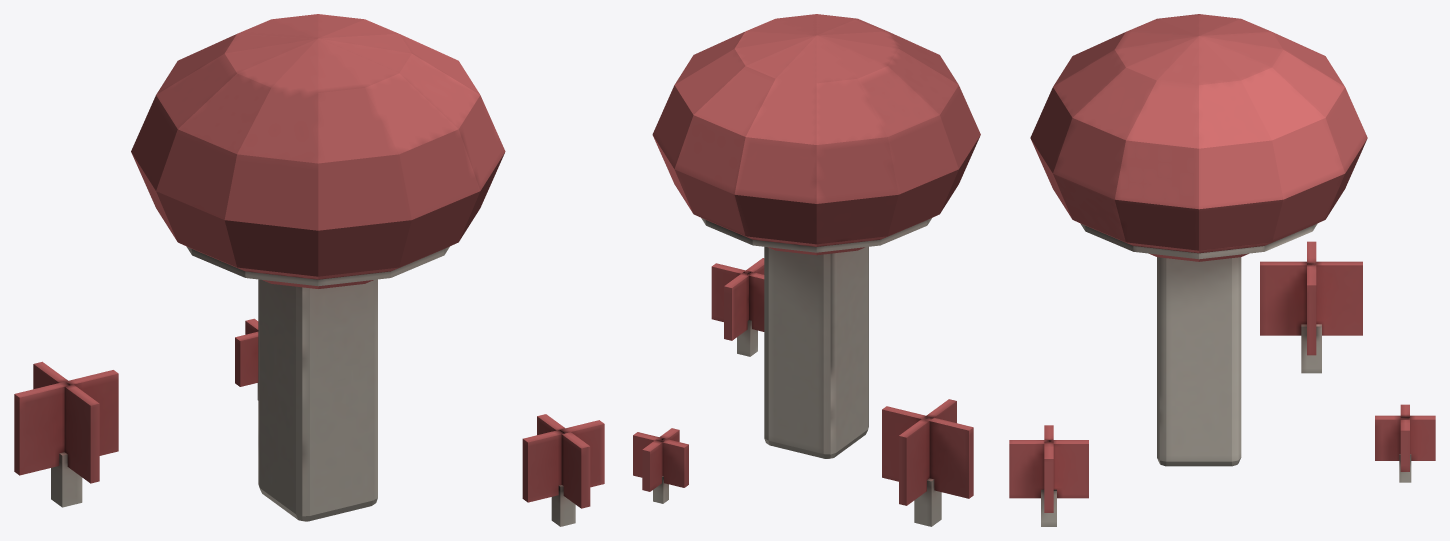
The model's file is netherfungus.glb.
3 renders of one model, left to right at view 1: azimuth 30°, elevation 25°; view 2: azimuth 150°, elevation 25°; view 3: azimuth 270°, elevation 25°, orthographic. The views are drawn at different scales.
Visible parts, largest first — view 1: netherfungus; view 2: netherfungus; view 3: netherfungus.
Boxes of the visible parts, bbox=[...] form: netherfungus: bbox=[14, 14, 604, 526]; netherfungus: bbox=[633, 14, 980, 526]; netherfungus: bbox=[1009, 14, 1435, 526].
Bounding box in the file's own units: 0.975 × 0.98 × 0.91.
2 materials, 2 textured.
